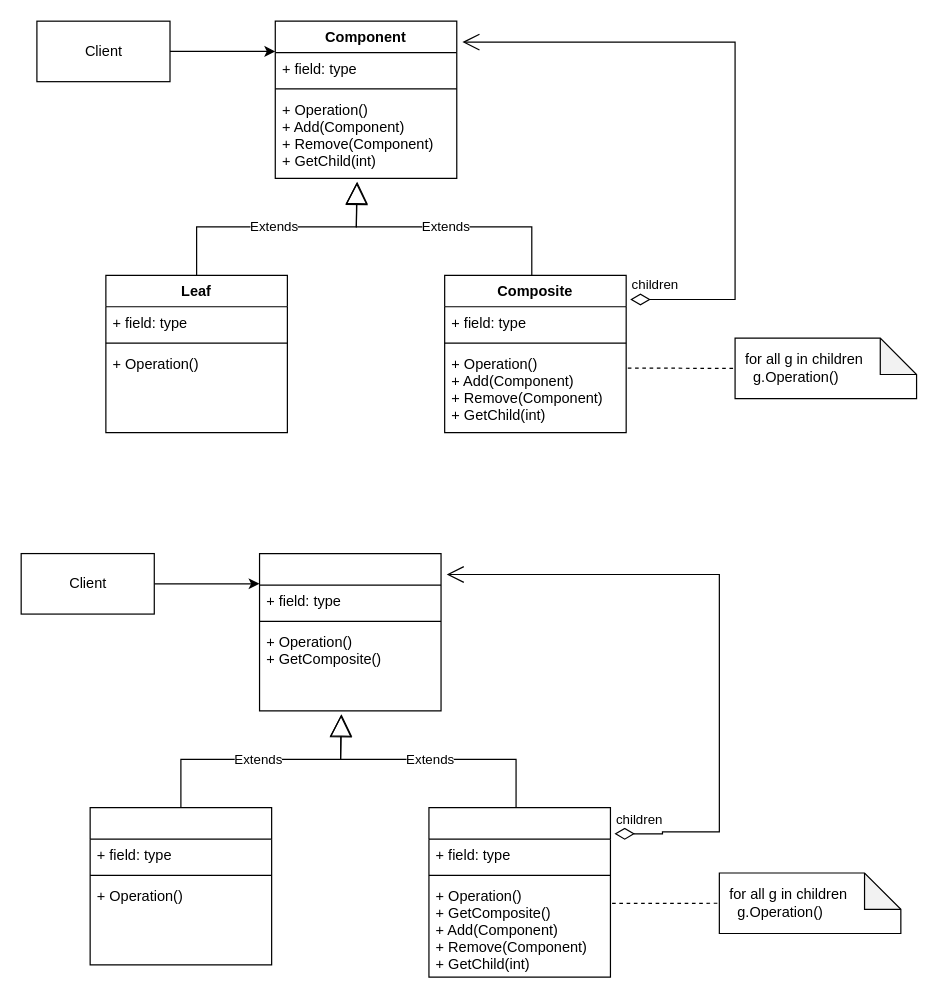
This 938x1002 diagram has some shape labels left out. Here are the shapes that lost their labels. From the top down, the box of each, then its label:
(258, 552, 441, 711): Equipment
(89, 806, 272, 965): FloppyDisk
(428, 806, 610, 977): EquipmentComposite
